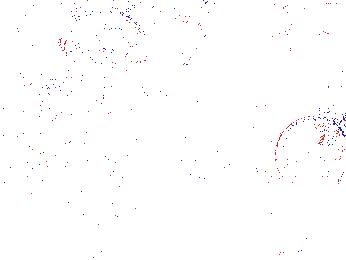moon jellyfish: (228, 28, 311, 108), (273, 115, 346, 197), (134, 21, 208, 92), (58, 10, 152, 65), (288, 13, 346, 89)
